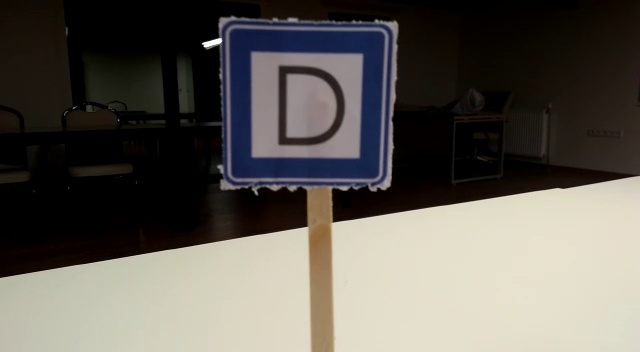durak: (223, 22, 391, 189)
